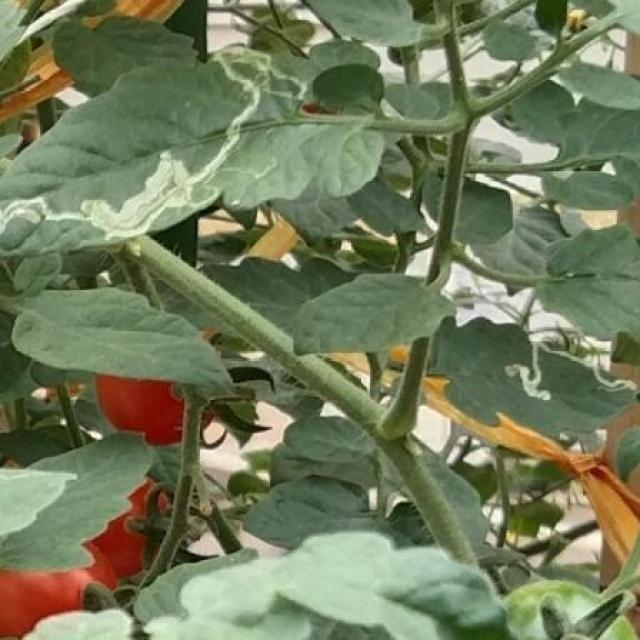Healthy: (10, 286, 240, 397), (288, 268, 458, 356)
Leaf Miner: (0, 40, 386, 260), (430, 314, 640, 440)
